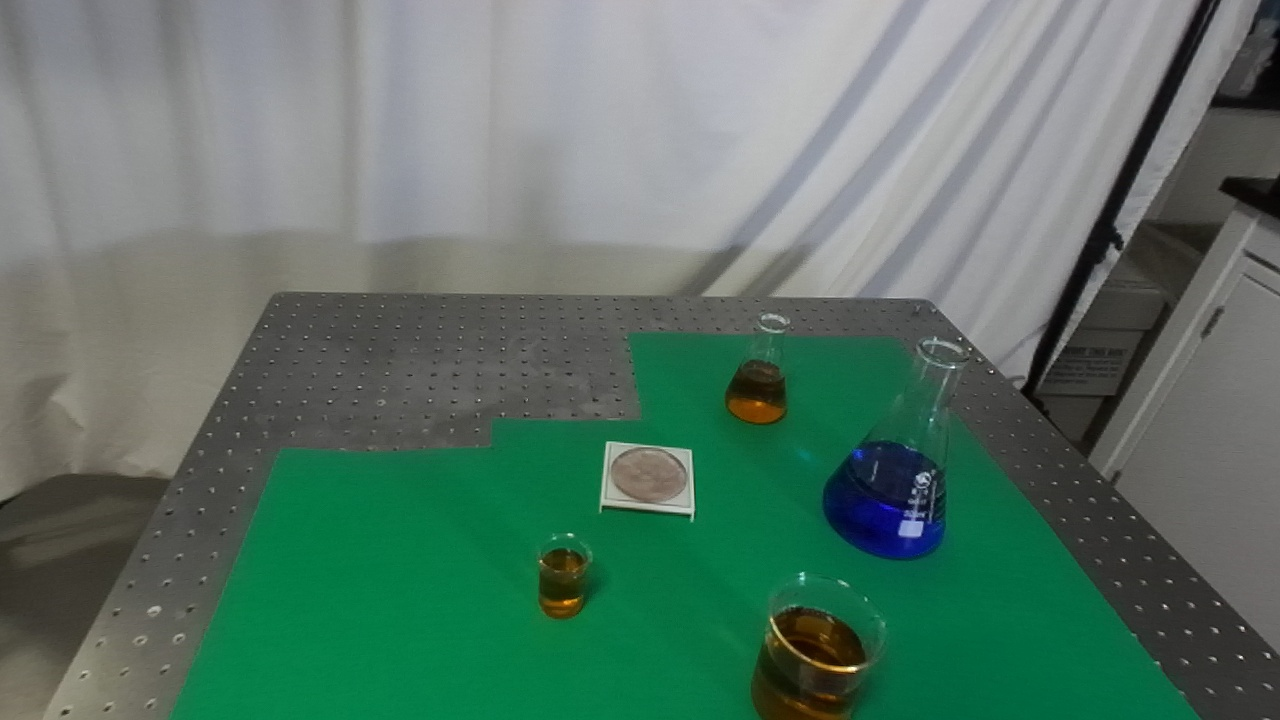glass: (817, 332, 974, 565), (747, 566, 893, 720), (721, 311, 794, 428), (532, 528, 597, 624)
plate: (595, 435, 700, 526)
